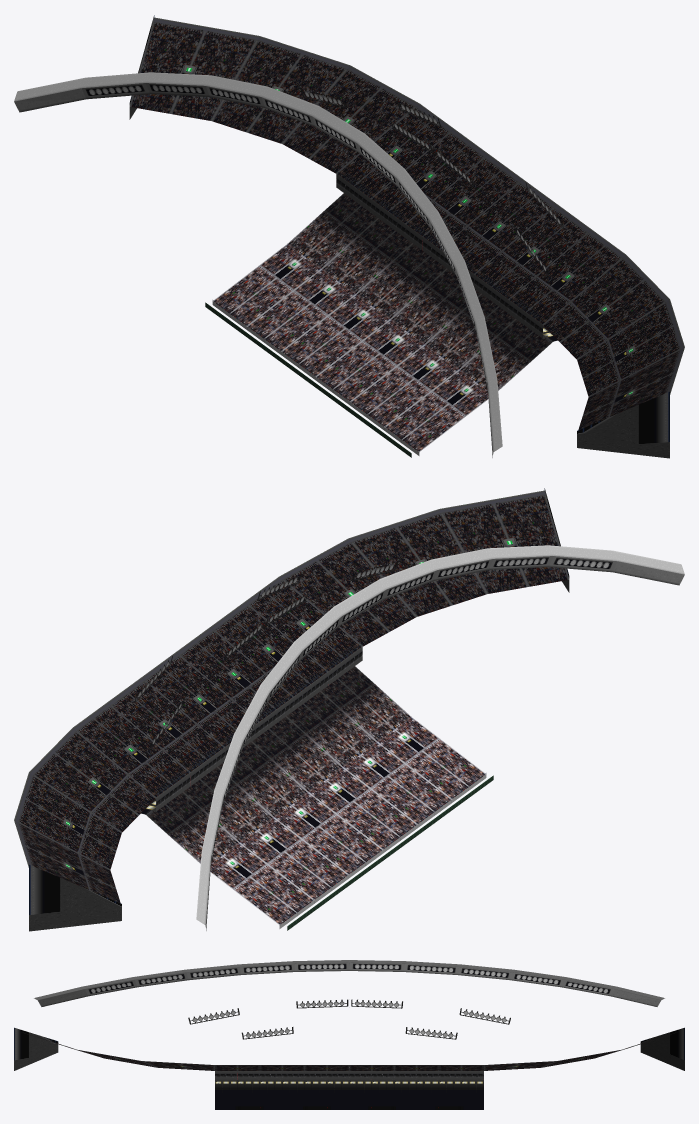
The picture shows the model from 3 angles, top to bottom: view 1: azimuth 30°, elevation 25°; view 2: azimuth 150°, elevation 25°; view 3: azimuth 270°, elevation 25°; orthographic projection. The views are drawn at different scales.
Size of the model in its own units: 72.33 by 60.32 by 240.
14 materials, 14 textured.
